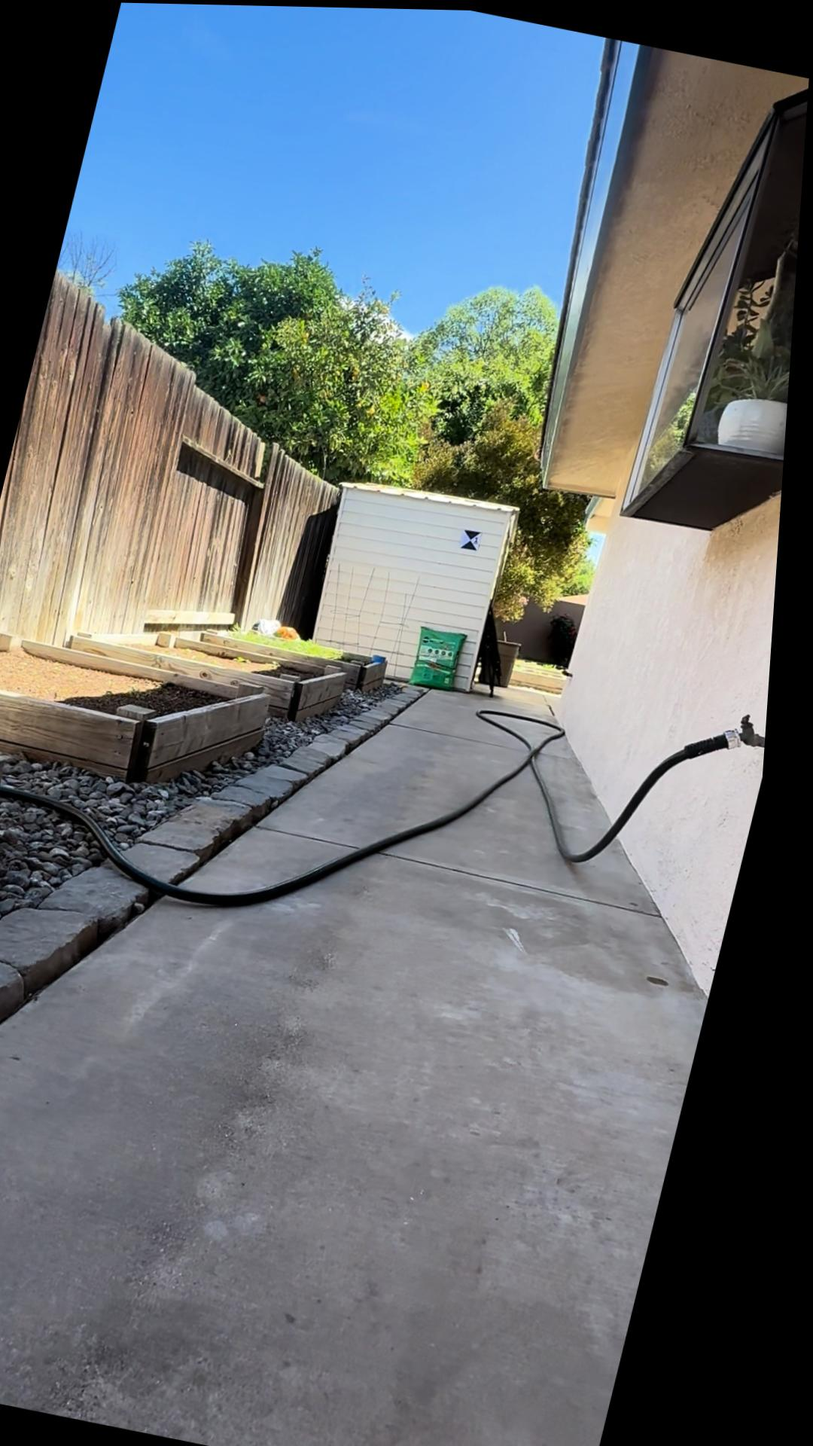target1: (458, 528, 484, 553)
